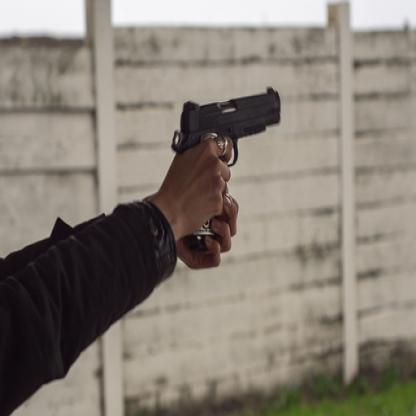gun: (172, 86, 281, 243)
